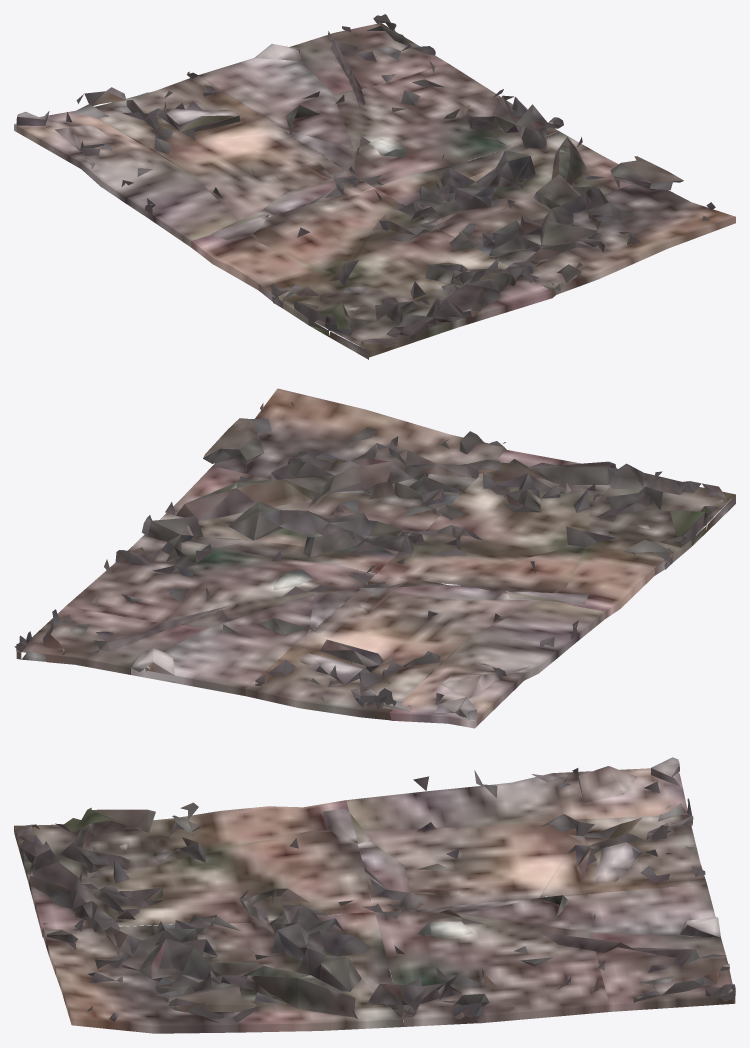
The picture shows the model from 3 angles, top to bottom: view 1: azimuth 30°, elevation 25°; view 2: azimuth 150°, elevation 25°; view 3: azimuth 270°, elevation 25°; orthographic projection. The views are drawn at different scales.
Visible parts, largest first — view 1: Mesh_0; view 2: Mesh_0; view 3: Mesh_0.
Boxes of the visible parts, bbox=[...] form: Mesh_0: bbox=[14, 14, 735, 359]; Mesh_0: bbox=[14, 388, 735, 728]; Mesh_0: bbox=[14, 757, 735, 1033].
Bounding box in the file's own units: 532 × 54.56 × 659.
Materials: 1 (1 with a texture image).
